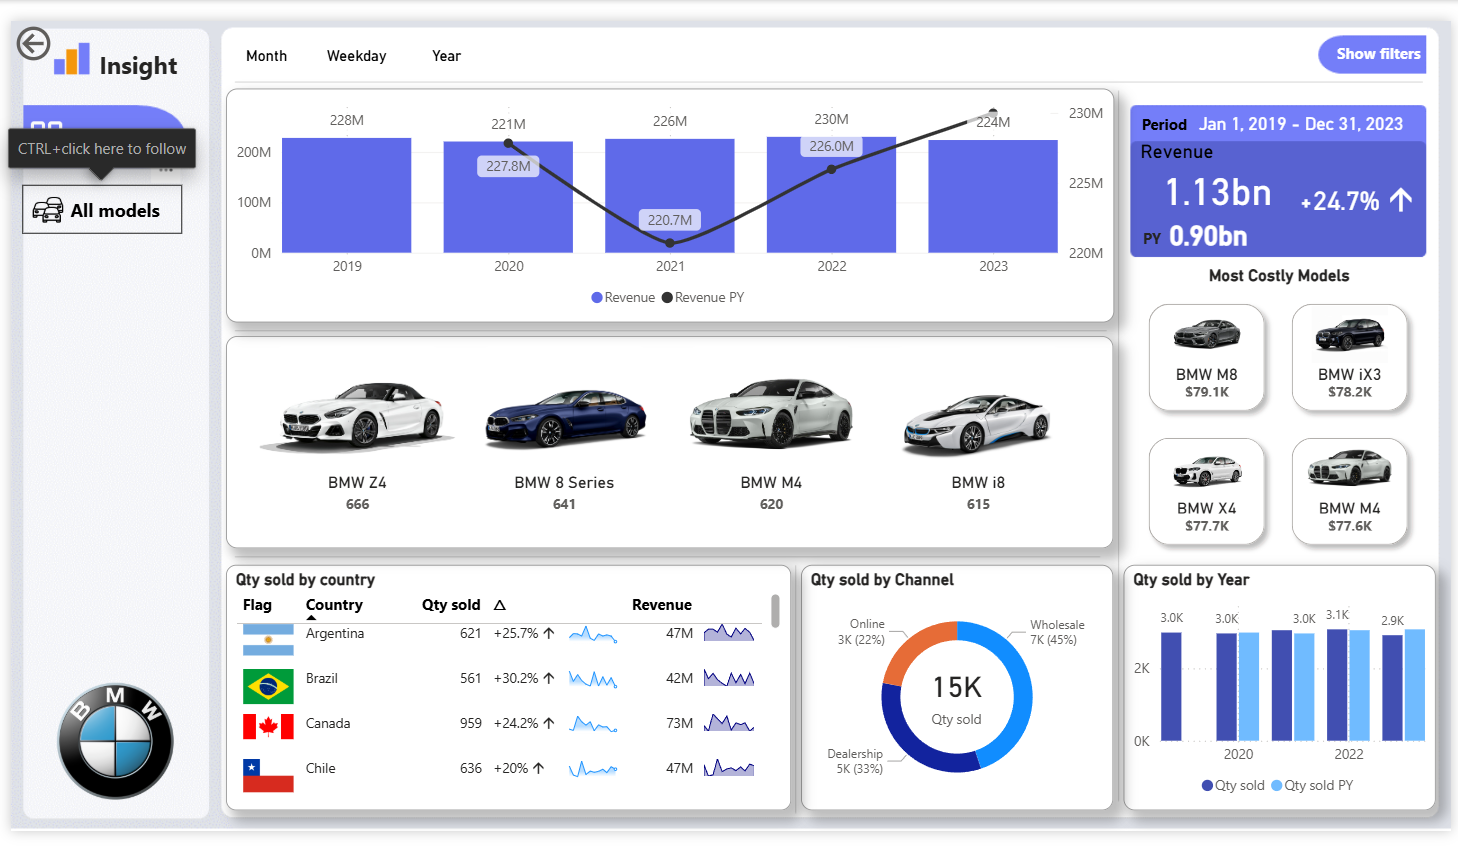

The page's visual inventory and layout, read from the dashboard file:
{"tool":"powerbi","page":{"name":"Dashboard","canvas":[1280,720],"ordinal":1},"visuals":[{"type":"lineClusteredColumnComboChart","fields":{"Category":["Calendar.Month","Calendar.Weekday","Calendar.Year"],"Y":["all measures.Revenue"],"Y2":["all measures.Revenue PY"]},"box":[190.7,60.5,789.5,208.1],"z":0},{"type":"actionButton","box":[0,0,100,40],"z":1000},{"type":"advancedSlicerVisual","fields":{"Values":["PeriodSlicer.PeriodSlicer"]},"box":[182.6,5.8,250,51.2],"z":2000},{"type":"cardVisual","title":"Revenue","fields":{"Data":["all measures.Revenue"]},"box":[998.8,105.8,147.7,69.8],"z":3000},{"type":"cardVisual","fields":{"Data":["all measures.Revenue PY"]},"box":[1010.5,155.8,109.3,61.6],"z":4000},{"type":"textbox","box":[1001.2,179.1,36,38.4],"z":5000},{"type":"cardVisual","fields":{"Data":["all measures.Revenue variance % arrow"]},"box":[1127.9,118.6,138.4,68.6],"z":6000},{"type":"cardVisual","fields":{"Data":["all measures.Selected period"]},"box":[1038.4,68.6,216.3,37.2],"z":7000},{"type":"textbox","box":[1000,77.9,64,27.9],"z":8000},{"type":"advancedSlicerVisual","title":"Most Costly Models","fields":{"Values":["DimModels.Model"]},"box":[974.4,217.4,305.8,266.3],"z":9000},{"type":"clusteredColumnChart","title":"Qty sold by Year","fields":{"Y":["all measures.Qty sold","all measures.Qty sold PY"],"Category":["Calendar.Year"]},"box":[988.4,483.7,277.9,218.6],"z":10000},{"type":"donutChart","fields":{"Category":["DimChannel.Channel"],"Y":["all measures.Qty sold"]},"box":[702.3,483.7,277.9,218.6],"z":11000},{"type":"card","fields":{"Values":["all measures.Qty sold"]},"box":[788.4,558.1,103.5,82.6],"z":12000},{"type":"tableEx","title":"Qty sold by country","fields":{"Values":["DimCountry.Flag","DimCountry.Country","all measures.Qty sold","all measures.Qty sold variance % arrow","all measures.Qty sold Sparkline","all measures.Revenue","all measures.Revenue Sparkline"]},"box":[190.7,483.7,502.3,218.6],"z":13000},{"type":"image","box":[10.5,80.2,43,46.5],"z":14000},{"type":"textbox","box":[50,86.2,103.8,32.5],"z":15000},{"type":"image","box":[14,147.7,37.2,39.5],"z":16000},{"type":"textbox","box":[47.5,152.5,105,36.2],"z":17000},{"type":"actionButton","box":[10,145,142.5,43.8],"z":18000},{"type":"advancedSlicerVisual","title":"Top selling models","fields":{"Values":["DimModels.Model"]},"box":[191.2,280,788.8,188.8],"z":19000},{"type":"actionButton","box":[1164,10.1,92.5,37.6],"z":21000},{"type":"image","box":[31.5,582.8,122.9,114.2],"z":22000},{"type":"image","box":[29.5,9.8,47.8,44.6],"z":23000},{"type":"textbox","box":[73,18.5,82.6,42.4],"z":24000}]}

Visuals, with their boxes on the page's 1280x720 design canvas (x1, y1, x2, y2). These are canvas units, not pixel positions in the 1458x849 screenshot, which may show the page scaled, cropped or inside an application window:
lineClusteredColumnComboChart - Calendar.Month x Calendar.Weekday: BBox(191, 60, 980, 269)
actionButton: BBox(0, 0, 100, 40)
advancedSlicerVisual - PeriodSlicer.PeriodSlicer: BBox(183, 6, 433, 57)
"Revenue" cardVisual: BBox(999, 106, 1146, 176)
cardVisual - all measures.Revenue PY: BBox(1010, 156, 1120, 217)
textbox: BBox(1001, 179, 1037, 218)
cardVisual - all measures.Revenue variance % arrow: BBox(1128, 119, 1266, 187)
cardVisual - all measures.Selected period: BBox(1038, 69, 1255, 106)
textbox: BBox(1000, 78, 1064, 106)
"Most Costly Models" advancedSlicerVisual: BBox(974, 217, 1280, 484)
"Qty sold by Year" clusteredColumnChart: BBox(988, 484, 1266, 702)
donutChart - DimChannel.Channel x all measures.Qty sold: BBox(702, 484, 980, 702)
card - all measures.Qty sold: BBox(788, 558, 892, 641)
"Qty sold by country" tableEx: BBox(191, 484, 693, 702)
image: BBox(10, 80, 54, 127)
textbox: BBox(50, 86, 154, 119)
image: BBox(14, 148, 51, 187)
textbox: BBox(48, 152, 152, 189)
actionButton: BBox(10, 145, 152, 189)
"Top selling models" advancedSlicerVisual: BBox(191, 280, 980, 469)
actionButton: BBox(1164, 10, 1256, 48)
image: BBox(32, 583, 154, 697)
image: BBox(30, 10, 77, 54)
textbox: BBox(73, 18, 156, 61)
